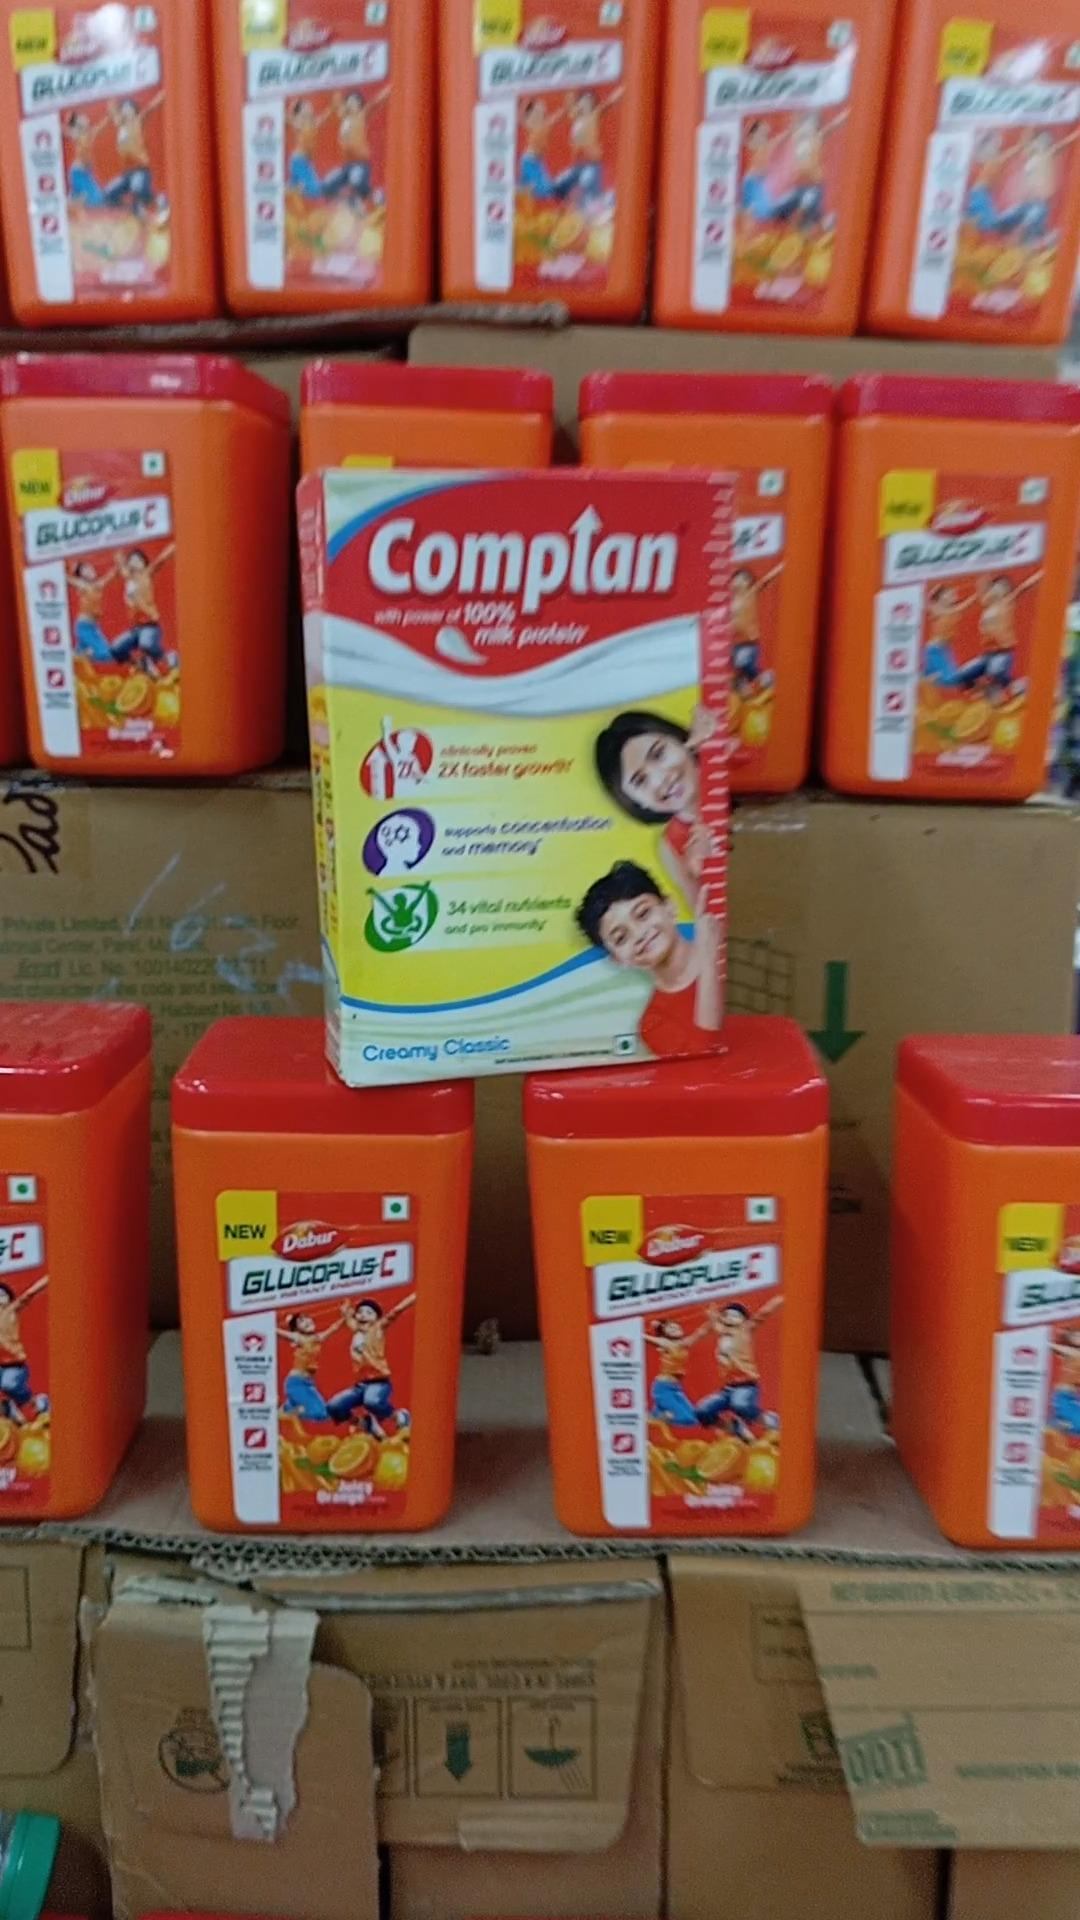COMPLAN_CREAMY_CLASSIC_500_G_PACK: (324, 468, 744, 1080)
